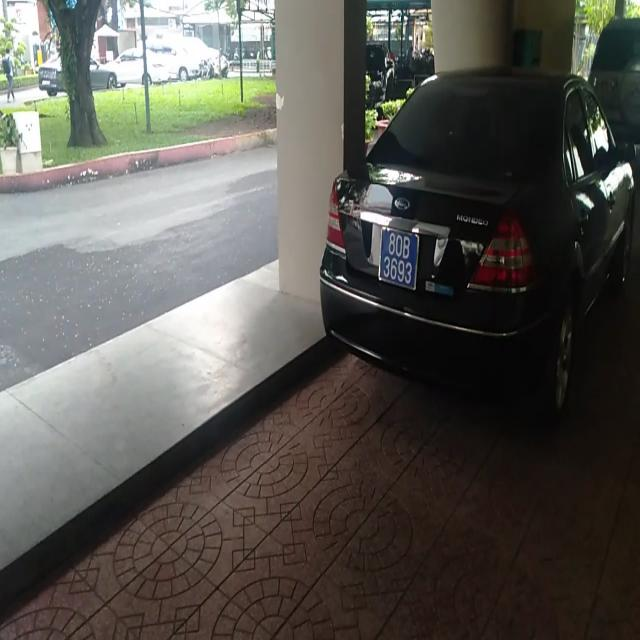bien_xanh: (378, 220, 419, 288)
